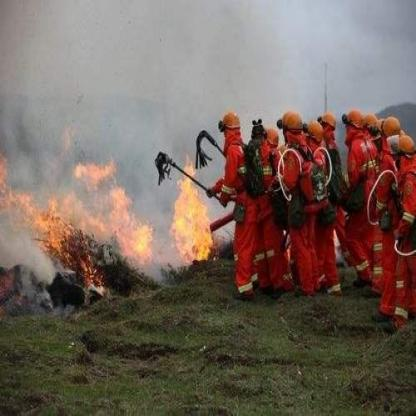fire: (1, 132, 153, 289), (167, 158, 219, 267)
other: (214, 100, 414, 324)
smoke: (28, 16, 398, 102)
